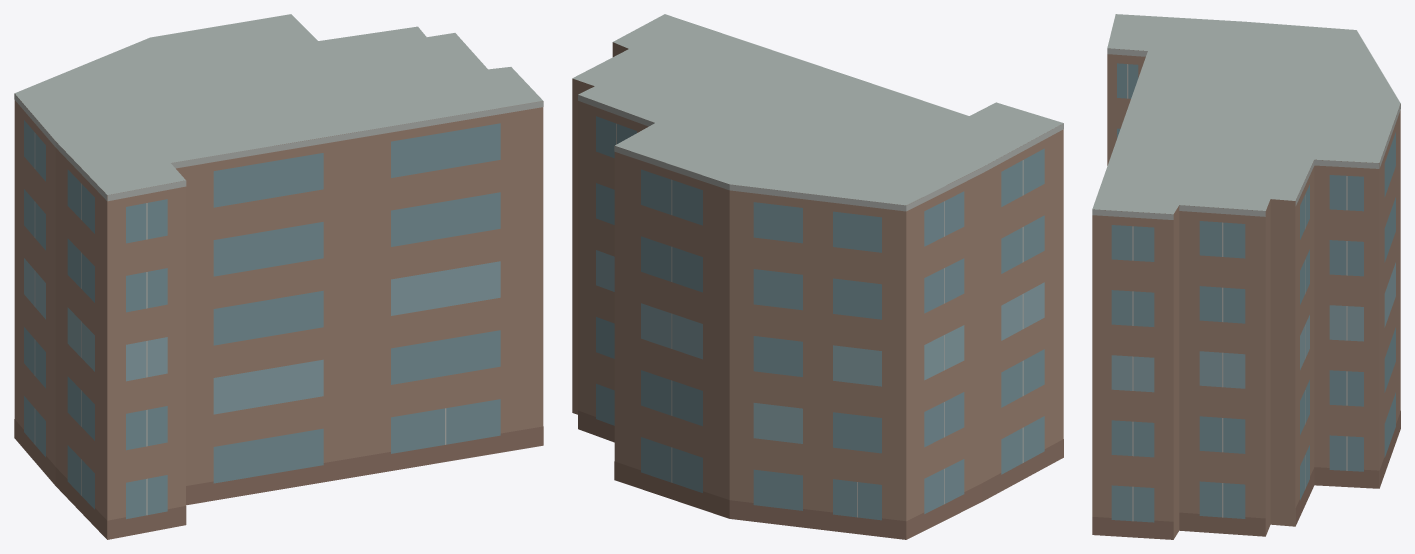
The model's file is survey-upis-32967829.glb.
3 renders of one model, left to right at view 1: azimuth 30°, elevation 25°; view 2: azimuth 150°, elevation 25°; view 3: azimuth 270°, elevation 25°, orthographic. The views are drawn at different scales.
Parts seen in each view (by area): view 1: survey-upis-32967829.tmp; view 2: survey-upis-32967829.tmp; view 3: survey-upis-32967829.tmp.
Part boxes in pixels (x1,y1,x2,y2): survey-upis-32967829.tmp: (14, 14, 543, 539); survey-upis-32967829.tmp: (572, 14, 1063, 539); survey-upis-32967829.tmp: (1092, 14, 1400, 539).
Bounding box in the file's own units: 17.81 × 13.5 × 11.6.
